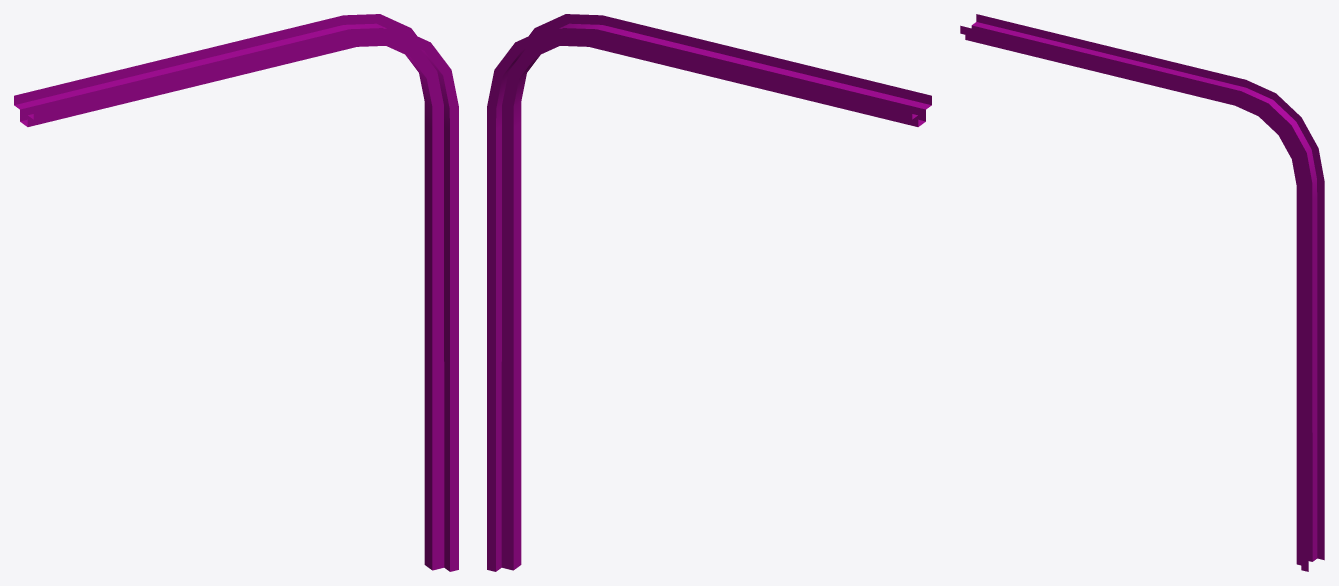
The model's file is Gare_2_Poteau_Mur_1.fbx.
3 renders of one model, left to right at view 1: azimuth 30°, elevation 25°; view 2: azimuth 150°, elevation 25°; view 3: azimuth 330°, elevation 25°, orthographic. The views are drawn at different scales.
Visible parts, largest first — view 1: Gare_2_Poteau_Mur_1; view 2: Gare_2_Poteau_Mur_1; view 3: Gare_2_Poteau_Mur_1.
Part boxes in pixels (x1,y1,x2,y2): Gare_2_Poteau_Mur_1: (14, 14, 458, 571); Gare_2_Poteau_Mur_1: (487, 14, 931, 571); Gare_2_Poteau_Mur_1: (960, 14, 1324, 571).
Size of the model in its own units: 6.28 by 7.95 by 0.5.
